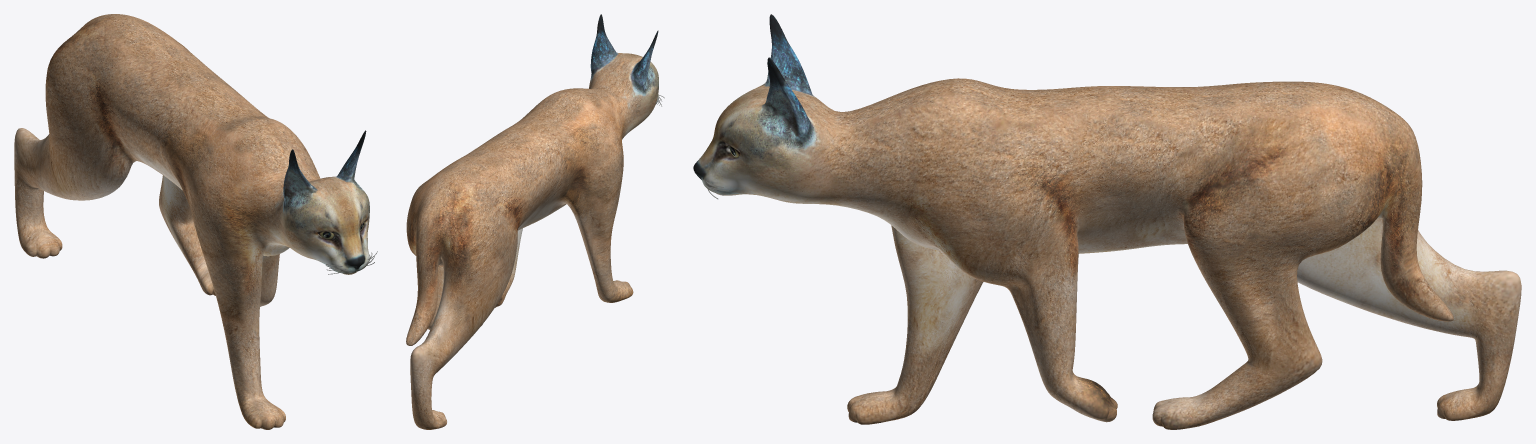
The model's file is 12161_Cat_v1_L2.obj.
3 views of the same model, side by side, from view 1: azimuth 30°, elevation 25°; view 2: azimuth 150°, elevation 25°; view 3: azimuth 270°, elevation 25° (orthographic). The views are drawn at different scales.
Visible parts, largest first — view 1: 12161_Cat_v1_L2; view 2: 12161_Cat_v1_L2; view 3: 12161_Cat_v1_L2.
Part boxes in pixels (x1,y1,x2,y2): 12161_Cat_v1_L2: (14,14,377,429); 12161_Cat_v1_L2: (406,14,664,429); 12161_Cat_v1_L2: (693,14,1521,429).
Size of the model in its own units: 0.2431 by 0.5801 by 1.09.
